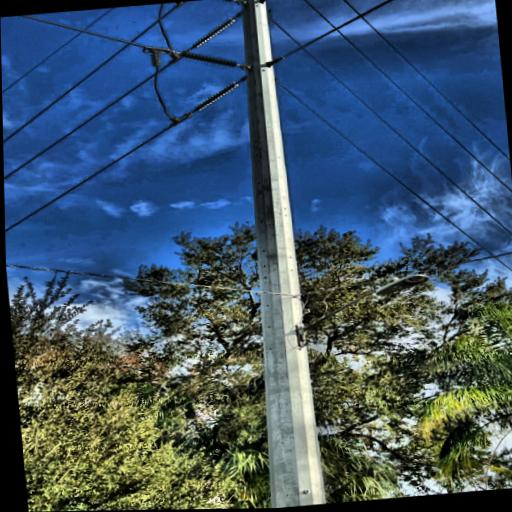pole: (214, 0, 341, 509)
